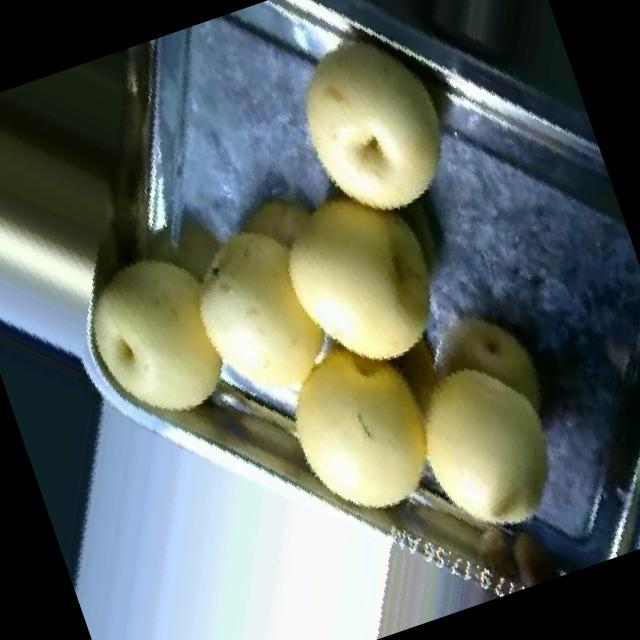Fruit: (205, 116, 498, 424), (356, 314, 612, 592), (231, 288, 486, 564), (31, 198, 282, 476), (246, 0, 502, 260)
